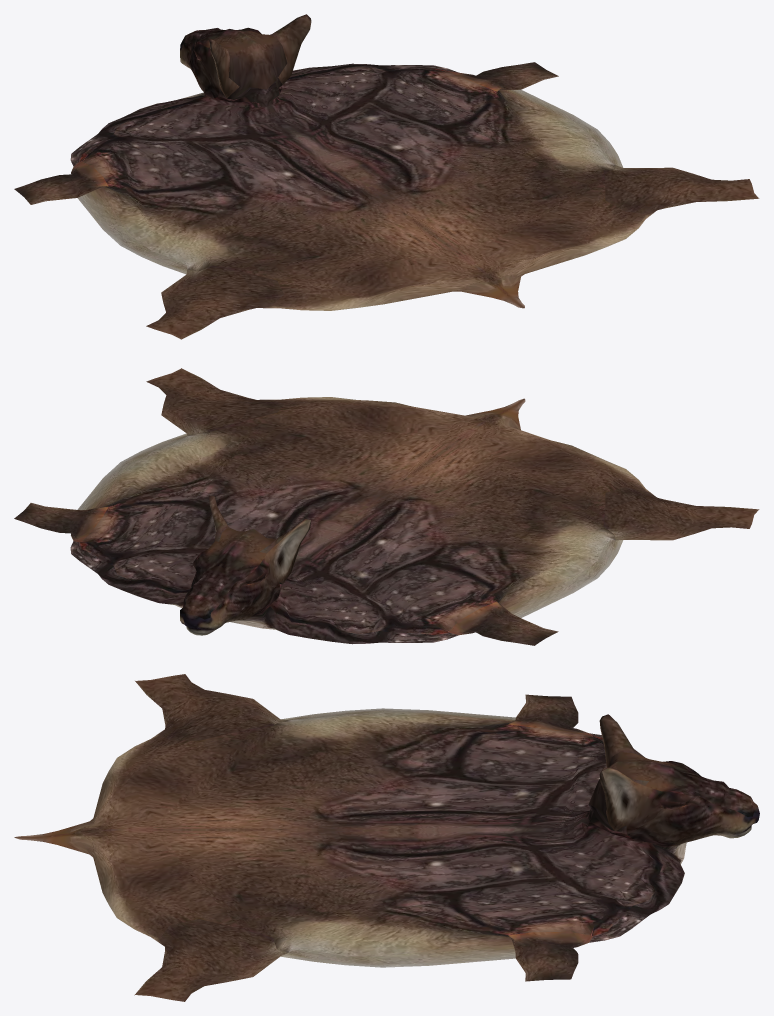
Rendered from o_mdl_env_propPeltCarpetA-transformed.glb.
The picture shows the model from 3 angles, top to bottom: view 1: azimuth 30°, elevation 25°; view 2: azimuth 150°, elevation 25°; view 3: azimuth 270°, elevation 25°; orthographic projection. The views are drawn at different scales.
Parts seen in each view (by area): view 1: default; view 2: default; view 3: default.
Boxes of the visible parts, x1,y1,x2,y2 form: default: (14, 14, 759, 339); default: (14, 368, 759, 645); default: (14, 674, 759, 1001).
Size of the model in its own units: 2.32 by 0.3203 by 2.23.
Materials: 1 (1 with a texture image).
